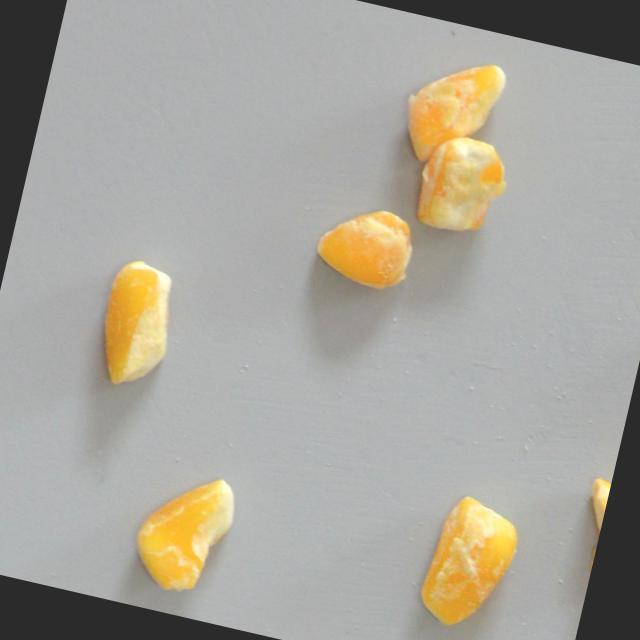estandar: (86, 252, 192, 400)
pelicula: (391, 123, 536, 243), (113, 471, 258, 591), (397, 505, 542, 625), (378, 47, 522, 167), (315, 188, 422, 299), (549, 476, 610, 577)
